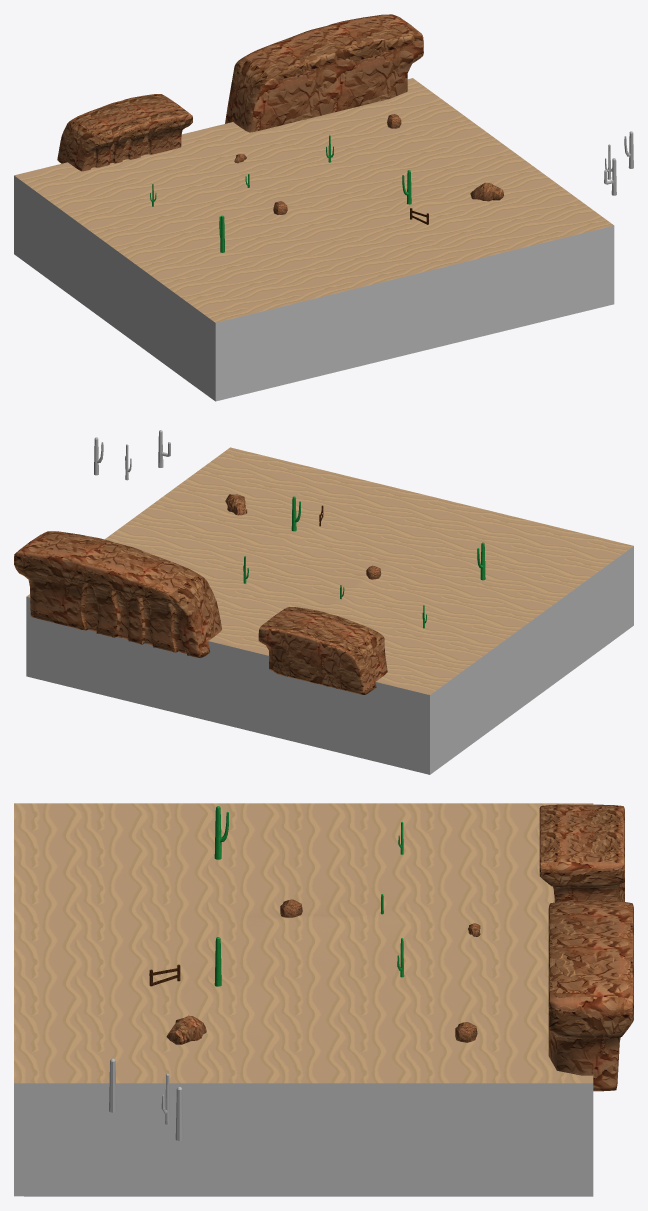
The picture shows the model from 3 angles, top to bottom: view 1: azimuth 30°, elevation 25°; view 2: azimuth 150°, elevation 25°; view 3: azimuth 270°, elevation 25°; orthographic projection. The views are drawn at different scales.
Visible parts, largest first — view 1: Sand1, _Rock, _Rock1; view 2: Sand1, _Rock, _Rock1; view 3: Sand1, _Rock, _Rock1, Rock4.
Part boxes in pixels (x1=…): Sand1: x1=14, y1=78, x2=614, y2=401; _Rock: x1=225, y1=14, x2=423, y2=132; _Rock1: x1=57, y1=94, x2=192, y2=171; Sand1: x1=26, y1=447, x2=633, y2=774; _Rock: x1=14, y1=531, x2=221, y2=657; _Rock1: x1=258, y1=607, x2=387, y2=694; Sand1: x1=14, y1=803, x2=593, y2=1196; _Rock: x1=548, y1=901, x2=633, y2=1091; _Rock1: x1=539, y1=804, x2=624, y2=902; Rock4: x1=166, y1=1015, x2=206, y2=1044.
Size of the model in its own units: 204 by 57.83 by 160.
